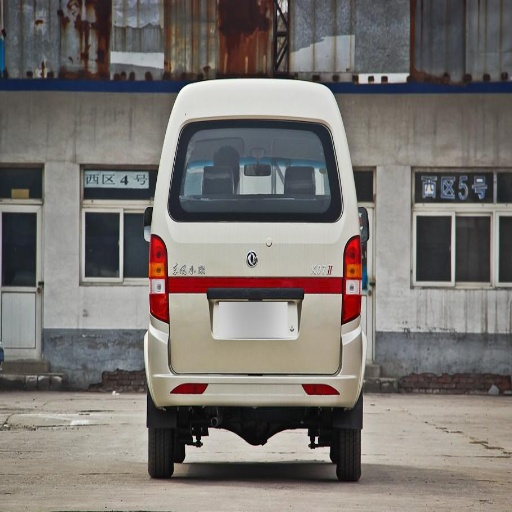back_bumper: (147, 317, 369, 409)
trunk: (151, 206, 358, 372)
